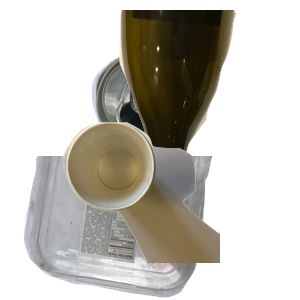glass: (117, 10, 300, 190)
metal: (89, 48, 276, 192)
plastic: (21, 156, 226, 300)
trash: (60, 120, 300, 300)
